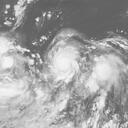cyclone: (44, 27, 91, 87)
